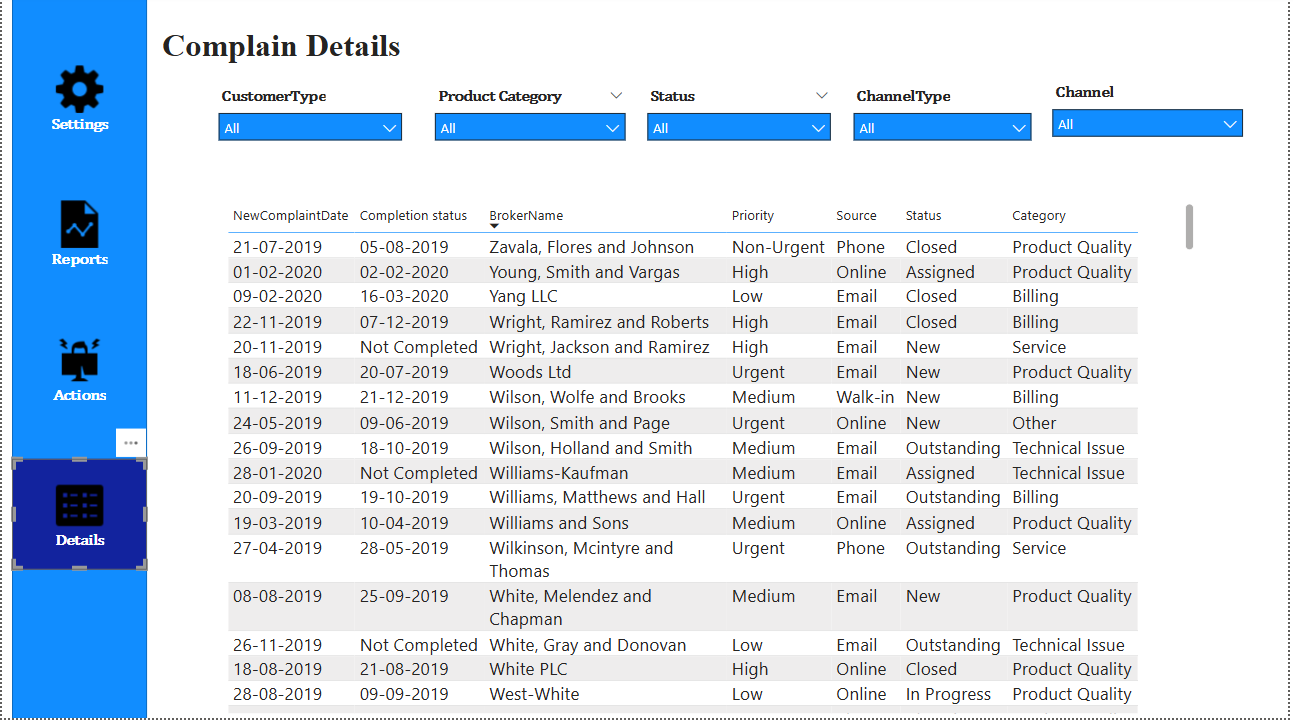

This screenshot's page, from the dashboard's own definition file:
{"tool":"powerbi","page":{"name":"Details","canvas":[1280,720],"ordinal":2},"visuals":[{"type":"shape","box":[9.6,0,134.5,720.4],"z":0},{"type":"textbox","box":[153.7,26.1,289.5,64.5],"z":1000},{"type":"slicer","fields":{"Values":["Sheet1.Status"]},"box":[632,86.6,203,85.3],"z":2000},{"type":"tableEx","fields":{"Values":["Sheet1.NewComplaintDate","Sheet1.Completion status","Sheet1.BrokerName","Sheet1.Priority","Sheet1.Source","Sheet1.Status","Sheet1.Category"]},"box":[219.5,203.1,972.3,516.9],"z":3000},{"type":"slicer","fields":{"Values":["Sheet1.CustomerType"]},"box":[205.7,86.6,203,92],"z":4000},{"type":"slicer","fields":{"Values":["Sheet1.ChannelType"]},"box":[837.7,86.6,197.6,88],"z":5000},{"type":"slicer","fields":{"Values":["Sheet1.Channel"]},"box":[1035.3,83.9,209.8,96.1],"z":6000},{"type":"slicer","fields":{"Values":["Sheet1.Product Category"]},"box":[420.9,86.6,209.8,89.3],"z":7000},{"type":"actionButton","box":[10,461.5,134.3,110.7],"z":8000},{"type":"actionButton","box":[10,317.2,134.3,110.7],"z":9000},{"type":"actionButton","box":[10,181.6,134.3,110.7],"z":10000},{"type":"actionButton","box":[10,47.3,134.3,110.7],"z":11000}]}

Visuals, with their boxes on the page's 1280x720 design canvas (x1, y1, x2, y2). These are canvas units, not pixel positions in the 1293x720 screenshot, which may show the page scaled, cropped or inside an application window:
shape: <bbox>10, 0, 144, 720</bbox>
textbox: <bbox>154, 26, 443, 91</bbox>
slicer - Sheet1.Status: <bbox>632, 87, 835, 172</bbox>
tableEx - Sheet1.NewComplaintDate x Sheet1.Completion status: <bbox>220, 203, 1192, 720</bbox>
slicer - Sheet1.CustomerType: <bbox>206, 87, 409, 179</bbox>
slicer - Sheet1.ChannelType: <bbox>838, 87, 1035, 175</bbox>
slicer - Sheet1.Channel: <bbox>1035, 84, 1245, 180</bbox>
slicer - Sheet1.Product Category: <bbox>421, 87, 631, 176</bbox>
actionButton: <bbox>10, 462, 144, 572</bbox>
actionButton: <bbox>10, 317, 144, 428</bbox>
actionButton: <bbox>10, 182, 144, 292</bbox>
actionButton: <bbox>10, 47, 144, 158</bbox>
